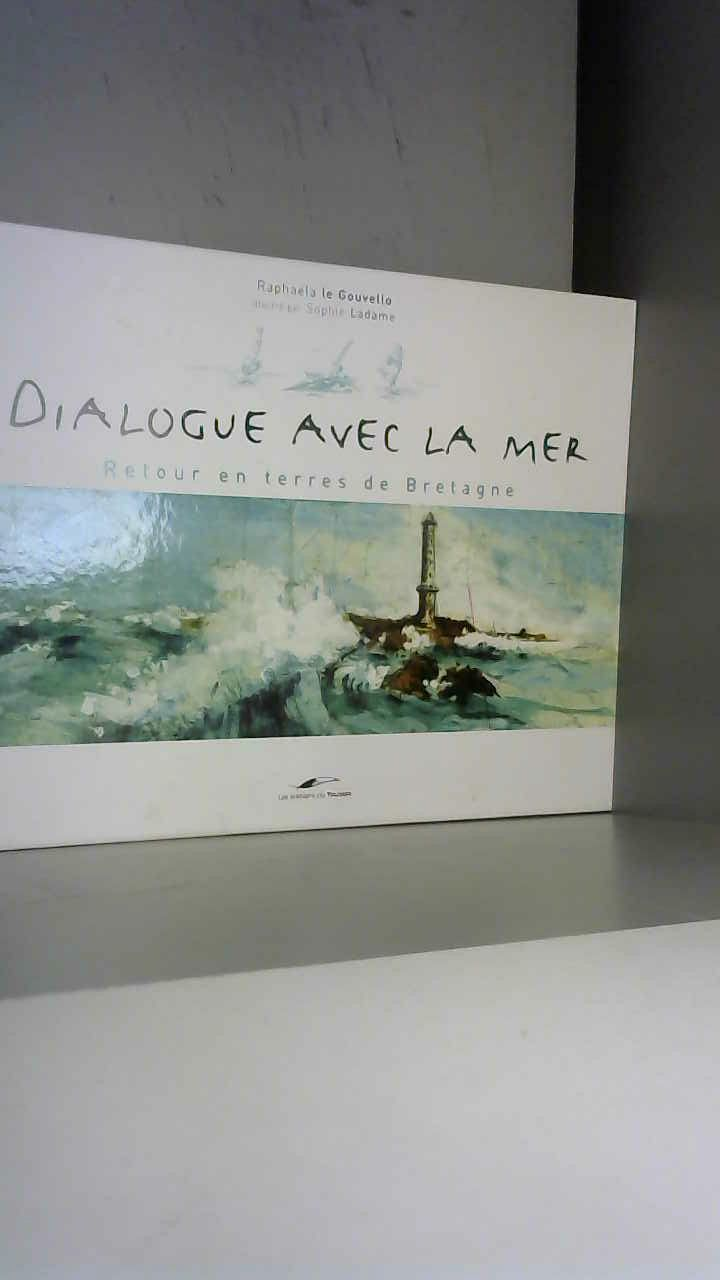book: (0, 179, 672, 906)
